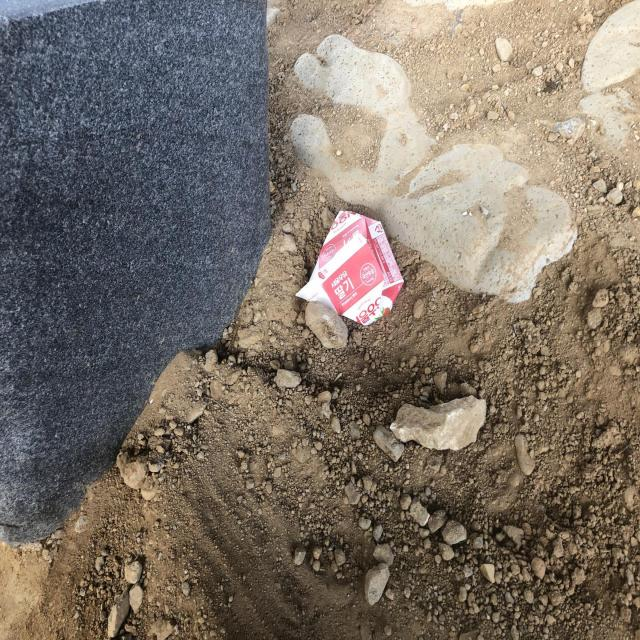paperpack: (297, 210, 404, 325)
